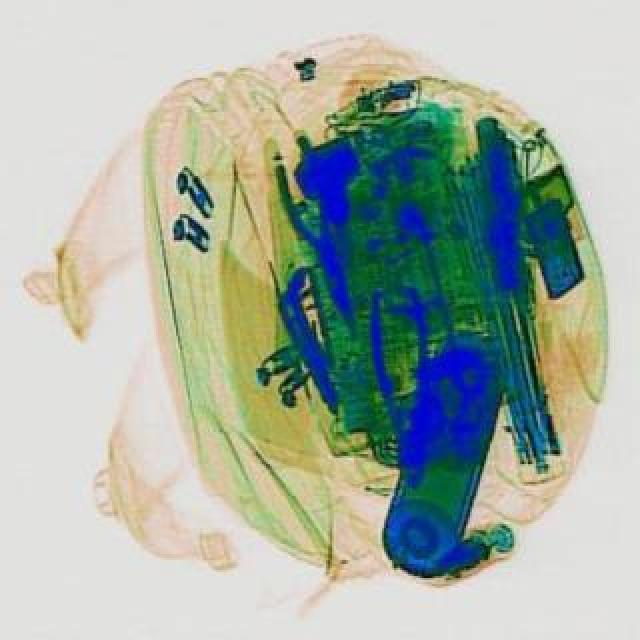wrench: (262, 132, 370, 336), (364, 282, 442, 486)
